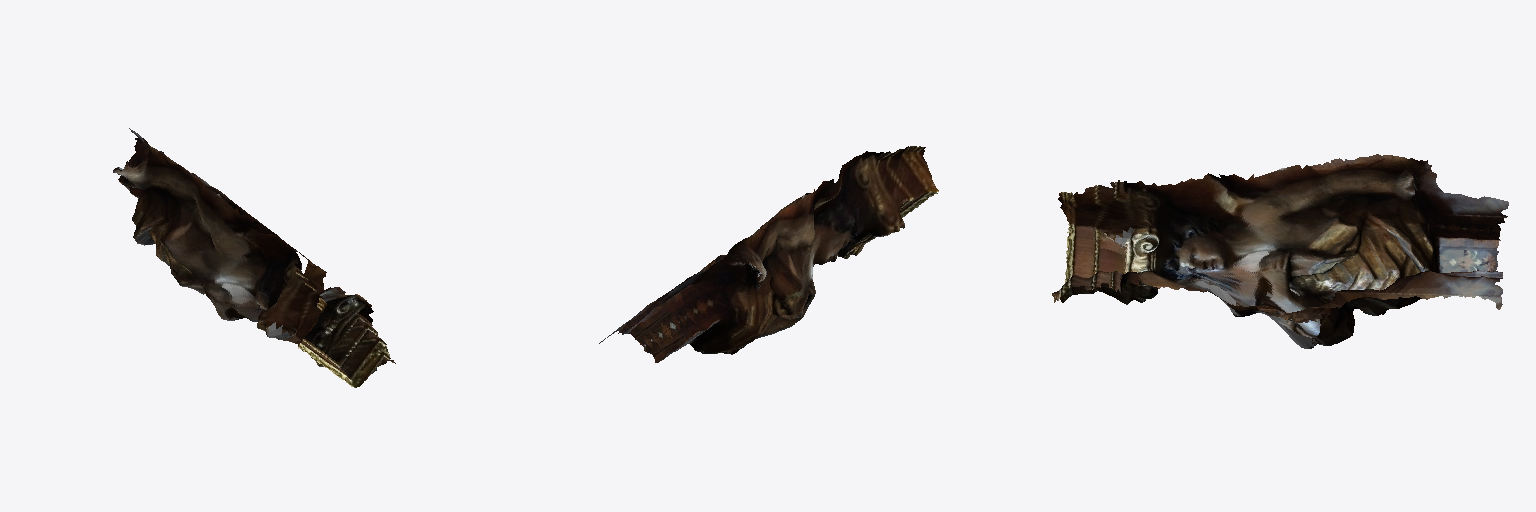
The picture shows the model from 3 angles: view 1: azimuth 30°, elevation 25°; view 2: azimuth 150°, elevation 25°; view 3: azimuth 270°, elevation 25°; orthographic projection.
Size of the model in its own units: 7.95 by 8.74 by 22.8.
Materials: 3 (2 with a texture image).